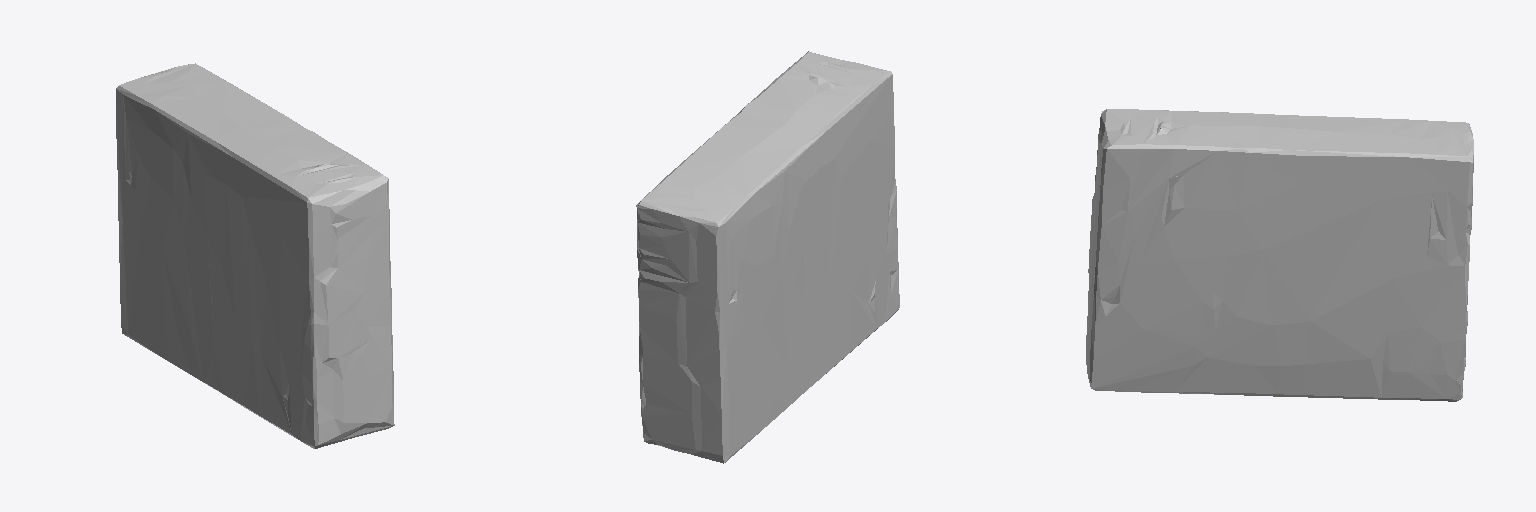
Rendered from rectangularCube3.obj.
The picture shows the model from 3 angles: view 1: azimuth 30°, elevation 25°; view 2: azimuth 150°, elevation 25°; view 3: azimuth 270°, elevation 25°; orthographic projection.
Visible parts, largest first — view 1: ChickenSoup_800_tex; view 2: ChickenSoup_800_tex; view 3: ChickenSoup_800_tex.
Part boxes in pixels (left/top/right/bottom): ChickenSoup_800_tex: left=116, top=63, right=394, bottom=448; ChickenSoup_800_tex: left=636, top=51, right=899, bottom=463; ChickenSoup_800_tex: left=1086, top=109, right=1473, bottom=401.
Size of the model in its own units: 0.0165 by 0.045 by 0.0593.